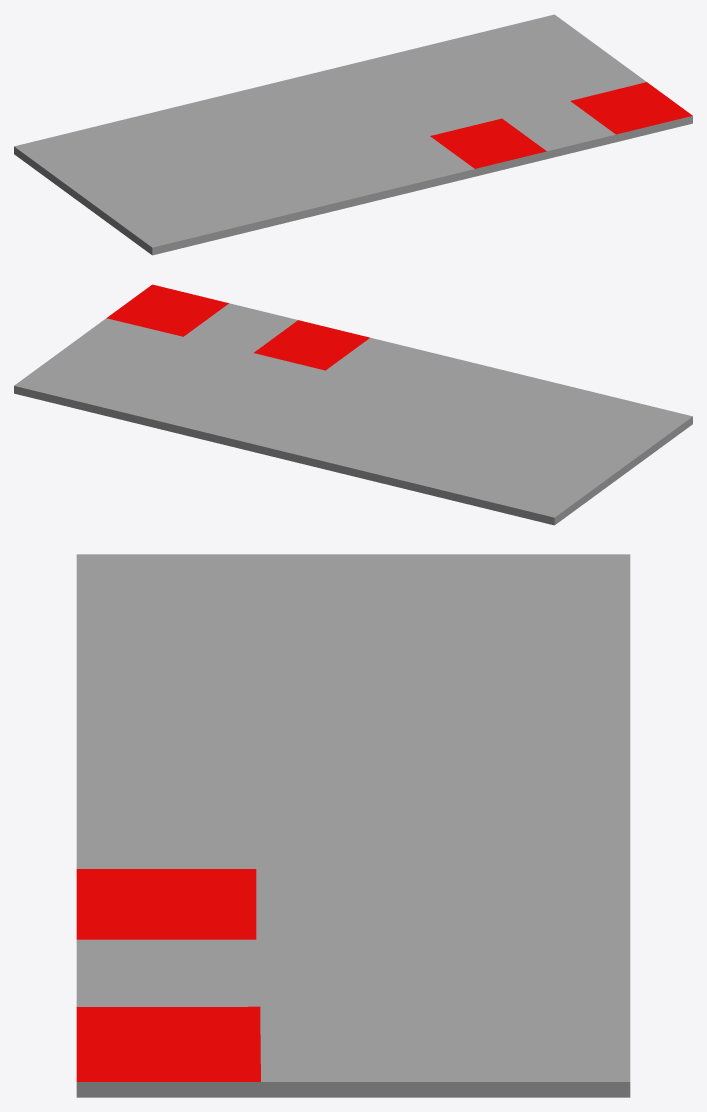
Rendered from arcaderoomfloor.fbx.
3 views of the same model, one above another, from view 1: azimuth 30°, elevation 25°; view 2: azimuth 150°, elevation 25°; view 3: azimuth 270°, elevation 25° (orthographic). The views are drawn at different scales.
Parts seen in each view (by area): view 1: newfloor; view 2: newfloor; view 3: newfloor.
Part boxes in pixels (left/top/right/bottom): newfloor: left=14, top=14, right=692, bottom=255; newfloor: left=14, top=284, right=692, bottom=525; newfloor: left=76, top=554, right=630, bottom=1097.
Size of the model in its own units: 5442 by 75.18 by 2413.
